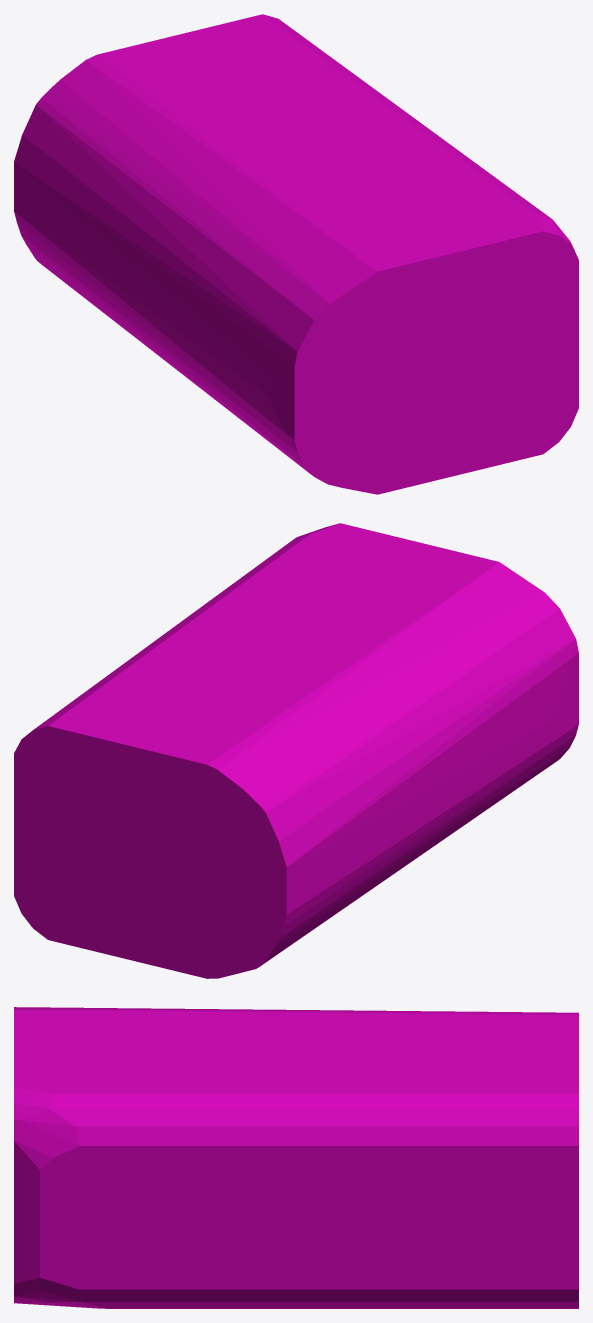
File: model0_convex_piece_020.obj
3 views of the same model, one above another, from view 1: azimuth 30°, elevation 25°; view 2: azimuth 150°, elevation 25°; view 3: azimuth 270°, elevation 25° (orthographic). The views are drawn at different scales.
Size of the model in its own units: 0.0174 by 0.0125 by 0.0298.
